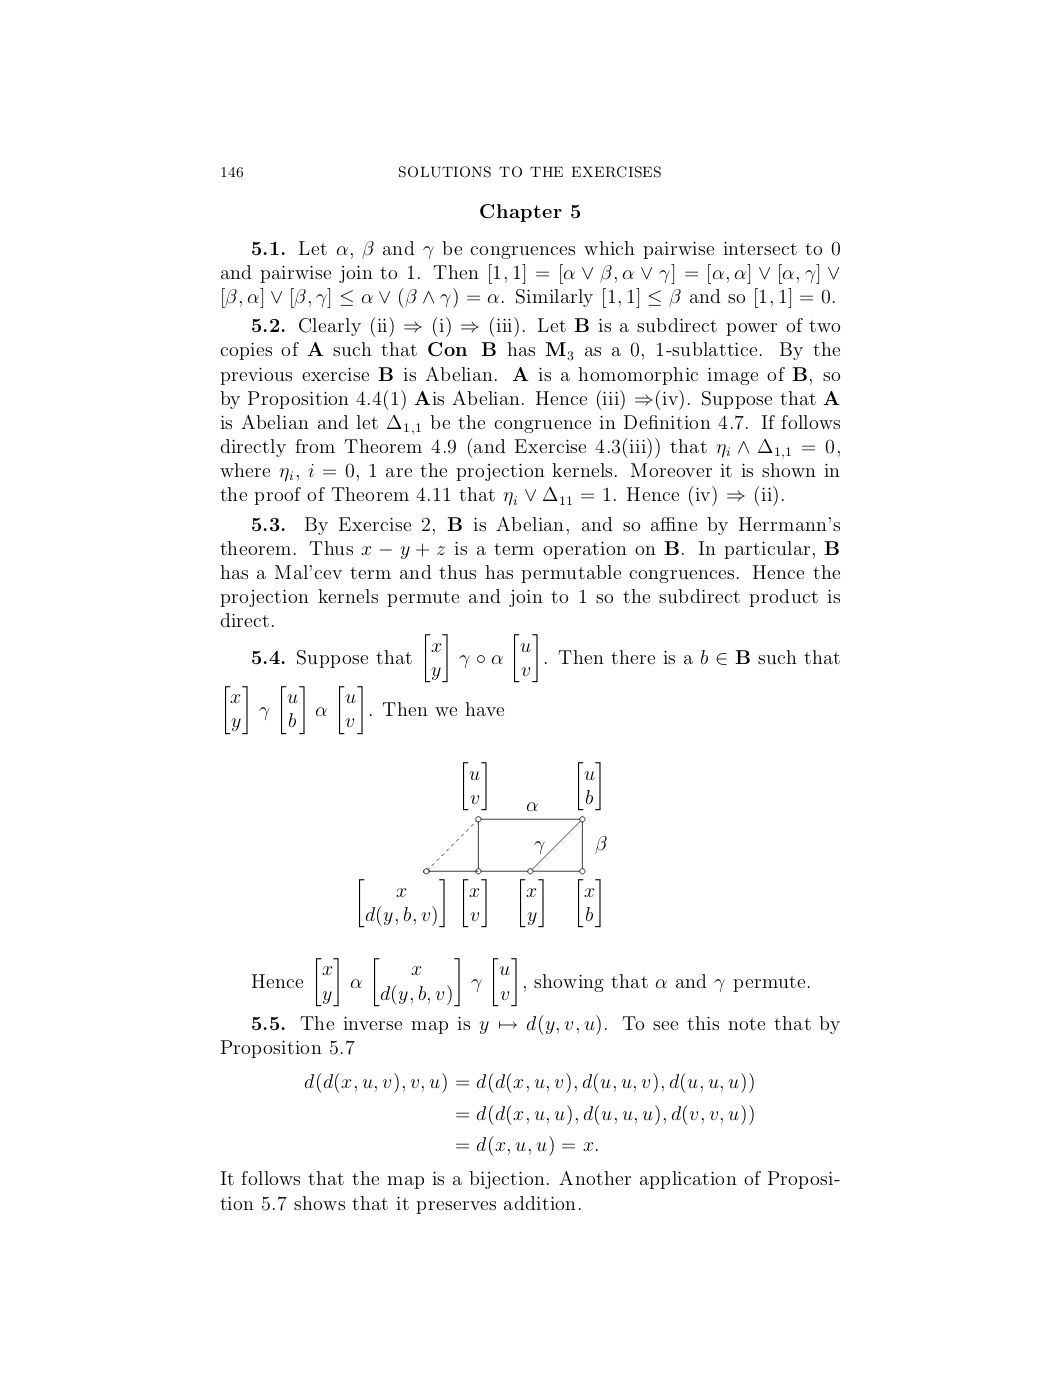figure: (359, 762, 606, 927)
formula: (304, 1072, 753, 1093), (456, 1104, 753, 1124), (456, 1135, 597, 1156)
